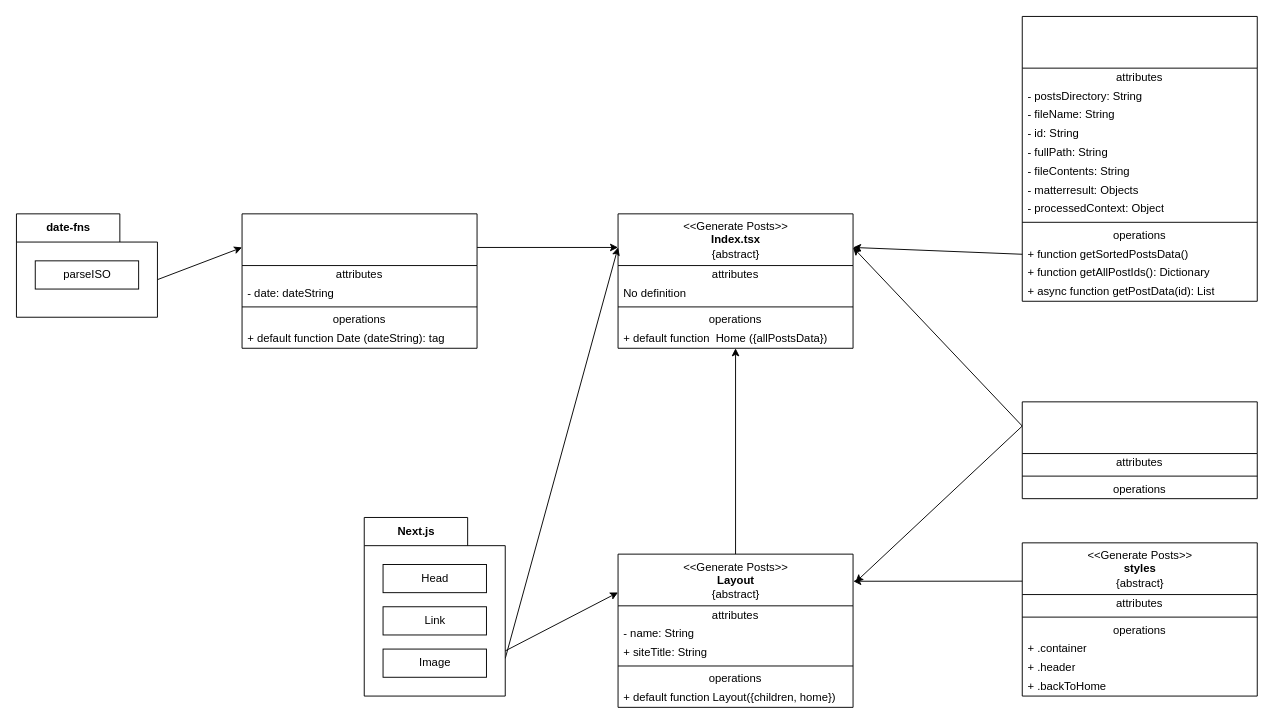
The diagram is 1274 pixels wide and 724 high, and some of its shapes have lost their labels. Each missing label, with the box of its shape:
<<Generate Posts>> date.js {abstract}: (241, 213, 477, 348)
<<Generate Posts>> posts {abstract}: (1021, 16, 1257, 301)
<<Generate Posts>> utilStyles {abstract}: (1021, 401, 1257, 499)
